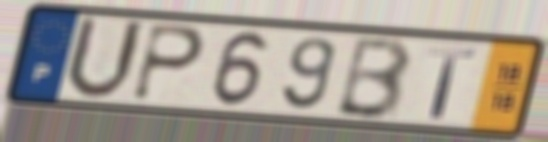6: (209, 28, 271, 109)
9: (280, 35, 337, 111)
B: (331, 35, 416, 122)
P: (127, 21, 208, 105)
T: (426, 44, 478, 122)
U: (60, 12, 148, 103)
